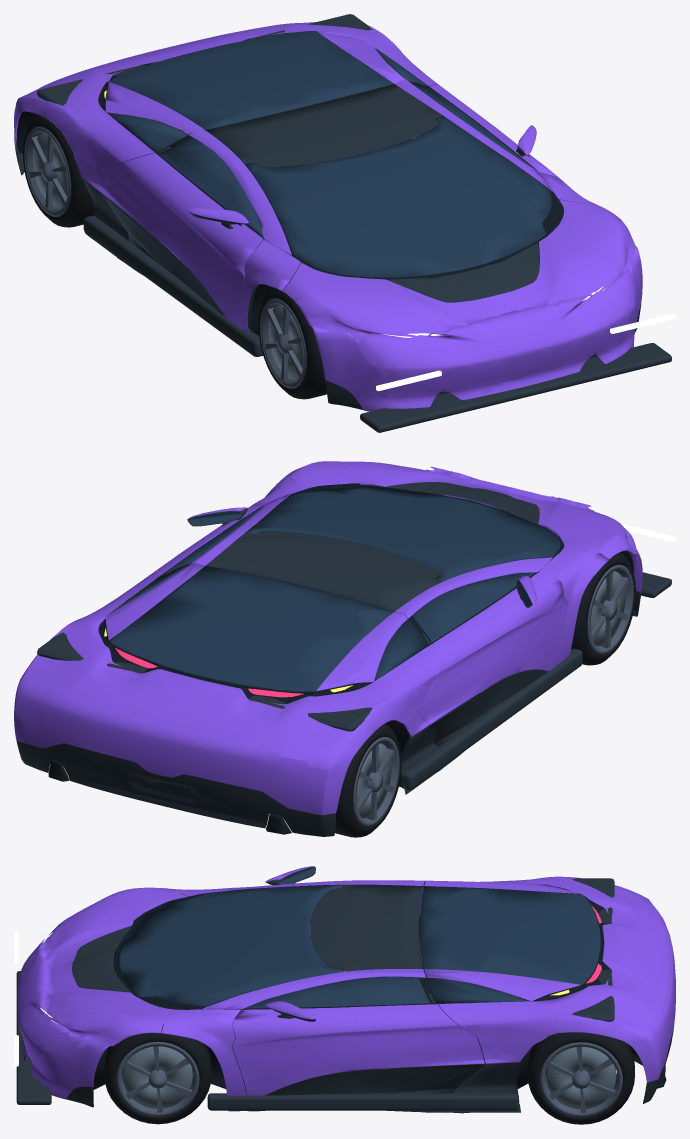
The model's file is prism-lod0.glb.
3 views of the same model, one above another, from view 1: azimuth 30°, elevation 25°; view 2: azimuth 150°, elevation 25°; view 3: azimuth 270°, elevation 25° (orthographic). The views are drawn at different scales.
Visible parts, largest first — view 1: Body, WheelFrontR, WheelRearR; view 2: Body, WheelRearR, WheelFrontR; view 3: Body, WheelRearL, WheelFrontL.
Part boxes in pixels (bbox=[...]): Body: bbox=[14, 14, 675, 432]; WheelFrontR: bbox=[258, 282, 326, 399]; WheelRearR: bbox=[22, 114, 94, 227]; Body: bbox=[14, 461, 675, 836]; WheelRearR: bbox=[335, 724, 401, 837]; WheelFrontR: bbox=[571, 552, 635, 665]; Body: bbox=[14, 866, 675, 1113]; WheelRearL: bbox=[527, 1032, 634, 1124]; WheelFrontL: bbox=[104, 1024, 211, 1124].
Size of the model in its own units: 2.57 by 1.03 by 4.73.
